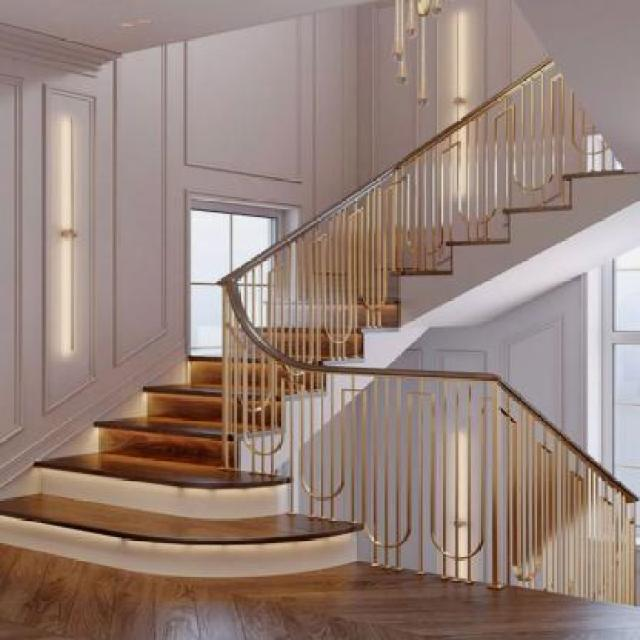stair: (6, 165, 546, 572)
